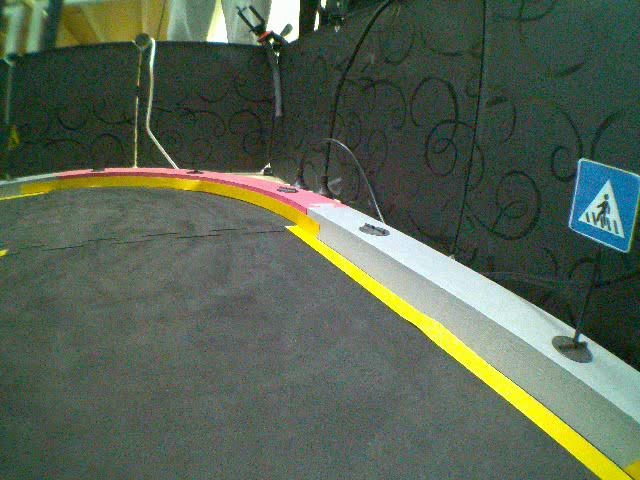crossing: (570, 156, 638, 254)
